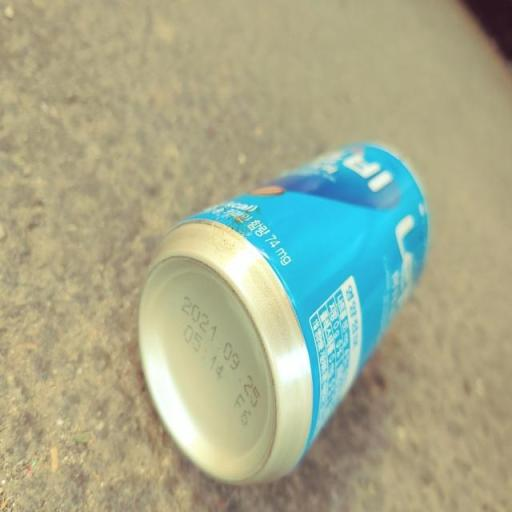metal: (117, 118, 445, 496)
